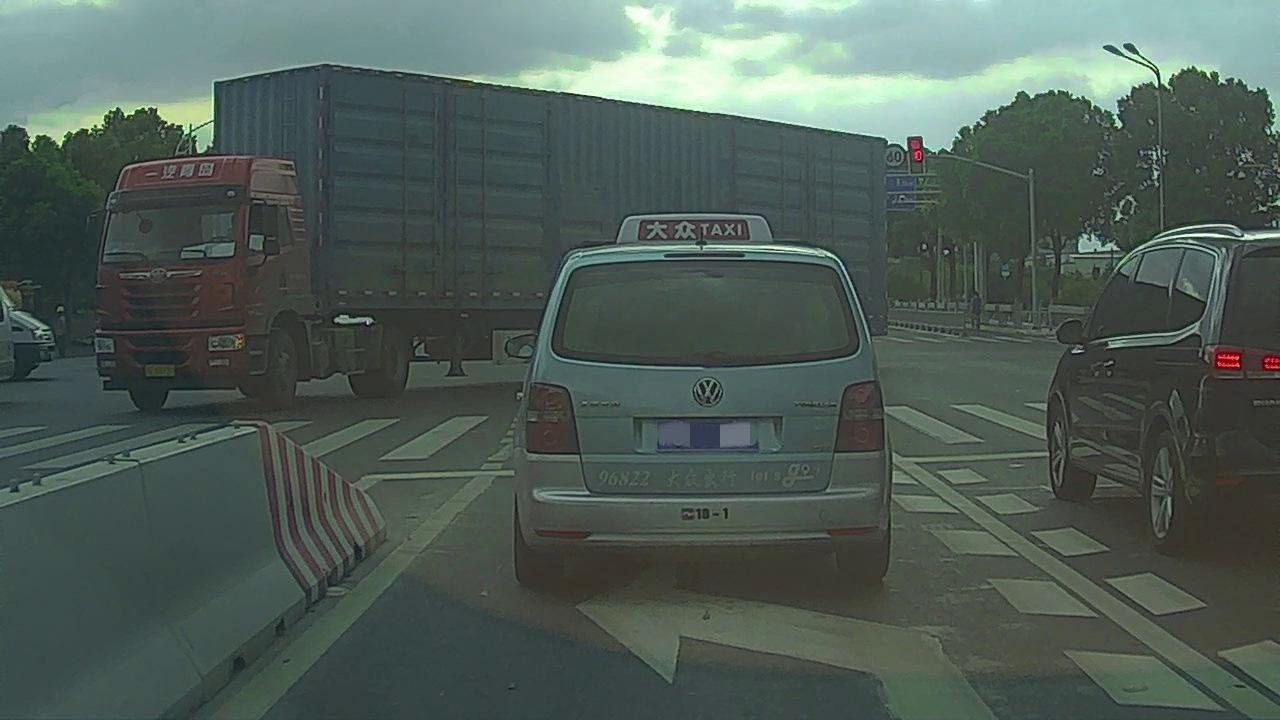traffic_light: (908, 131, 923, 175)
